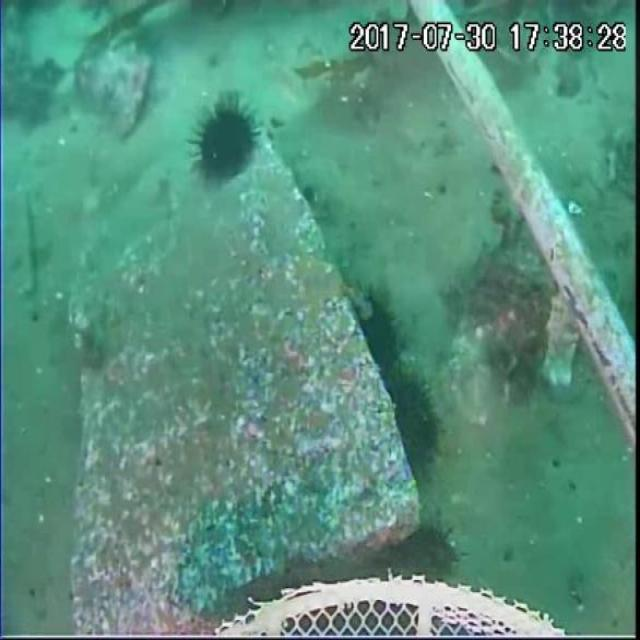echinus: (380, 369, 443, 472), (194, 96, 259, 184), (395, 520, 461, 584), (355, 290, 404, 374)
